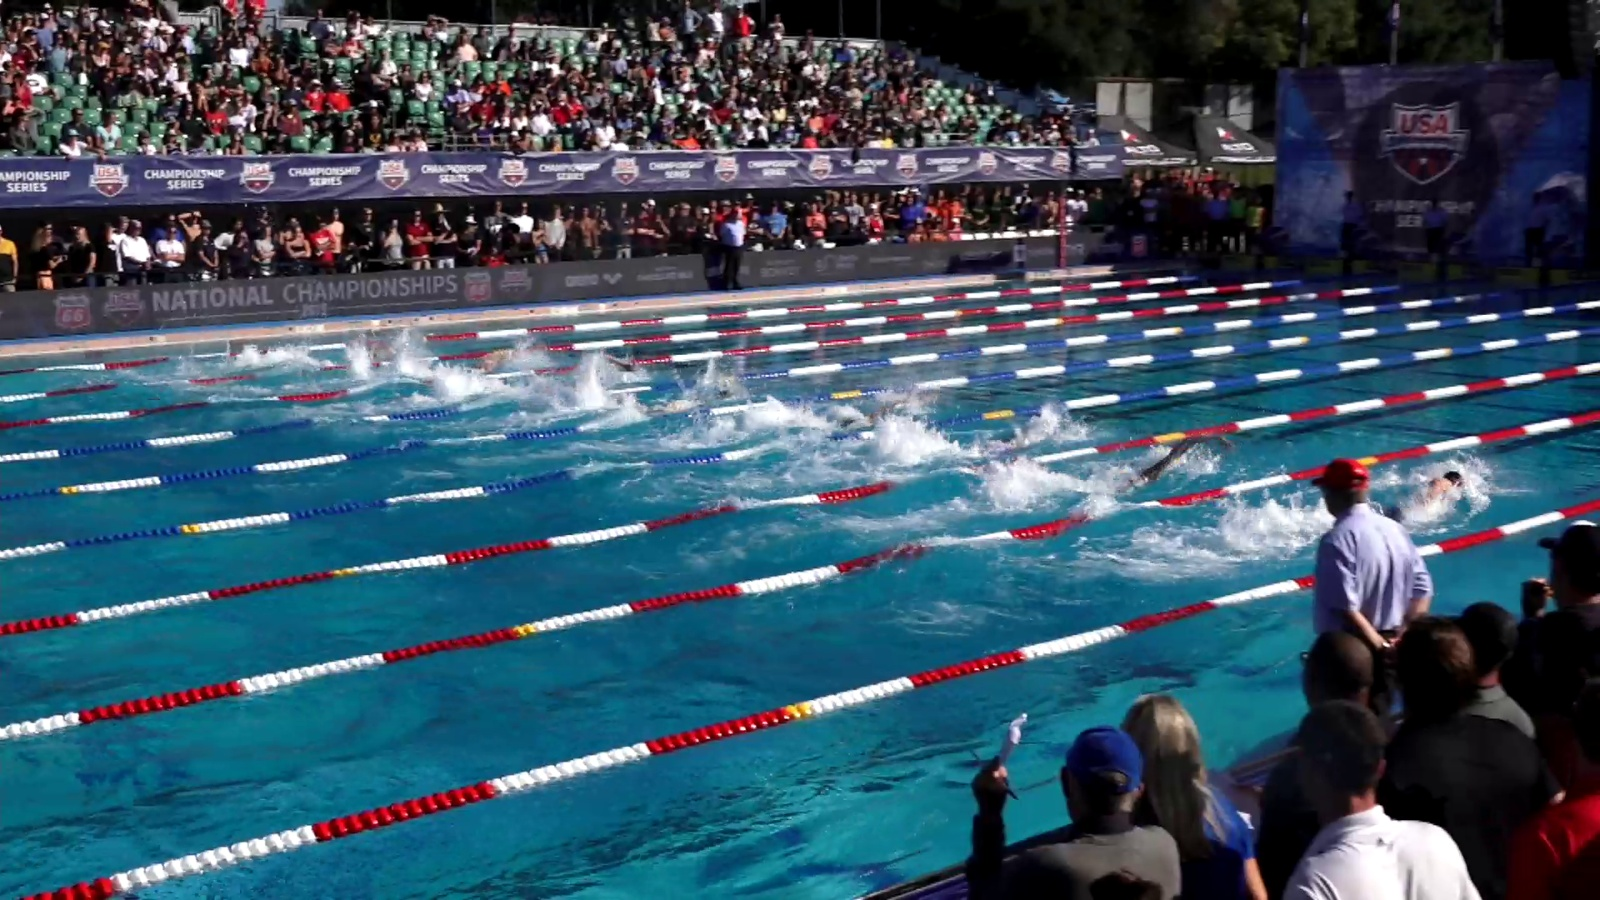swimmerw: (1298, 468, 1482, 551), (1082, 431, 1225, 495), (938, 416, 1059, 479), (546, 349, 634, 400), (649, 386, 736, 413), (451, 351, 529, 379), (838, 401, 929, 416)
